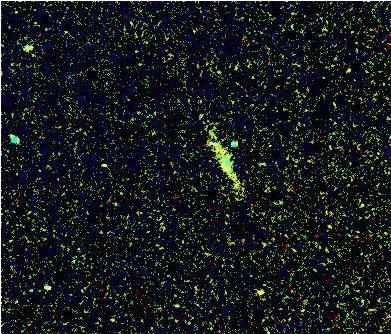star: (245, 274, 275, 304)
